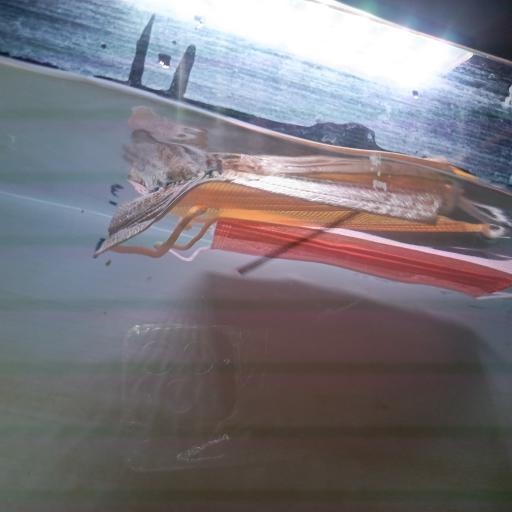mask: (91, 169, 493, 262), (217, 219, 512, 309)
